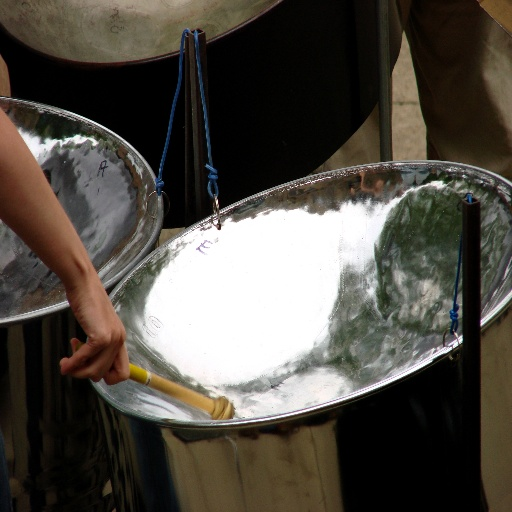hand: (50, 278, 130, 393)
